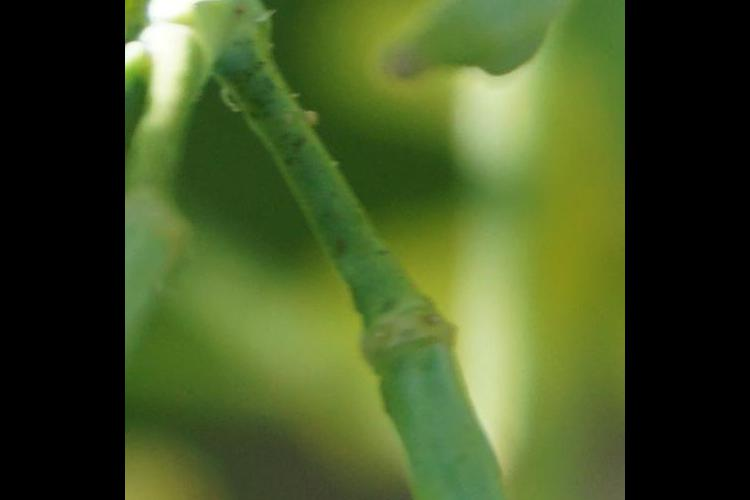pod: (360, 1, 588, 131)
